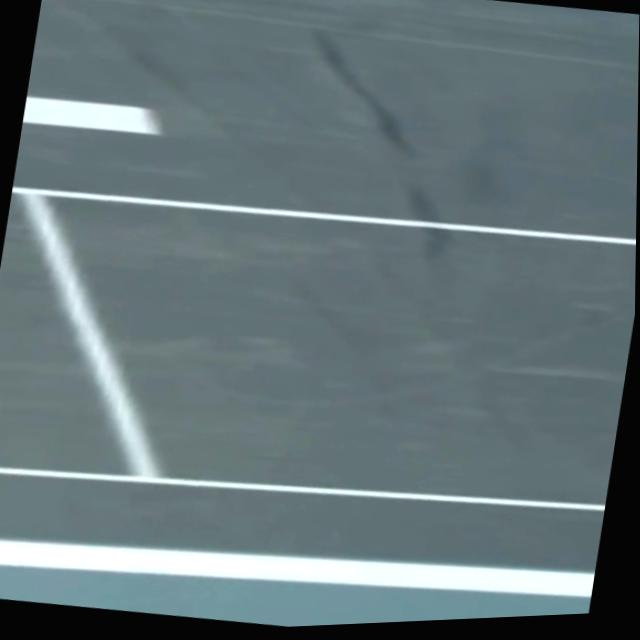center: (23, 96, 162, 134)
left: (0, 539, 595, 597)
